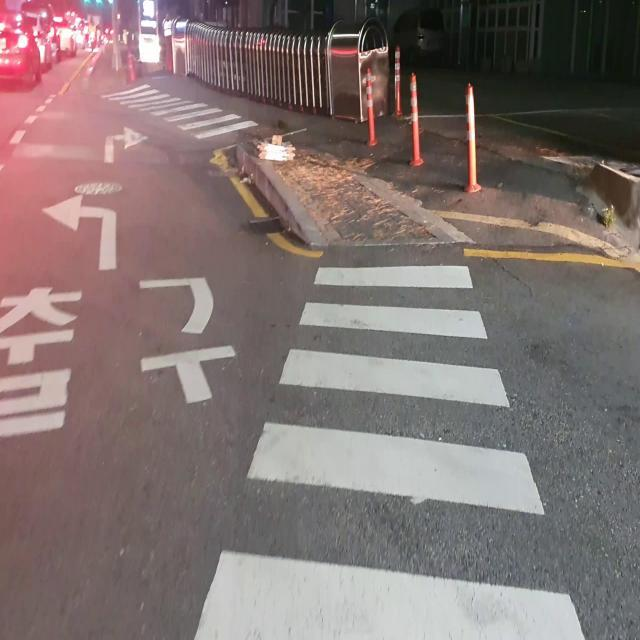crosswalk: (193, 264, 587, 640), (100, 82, 259, 140)
